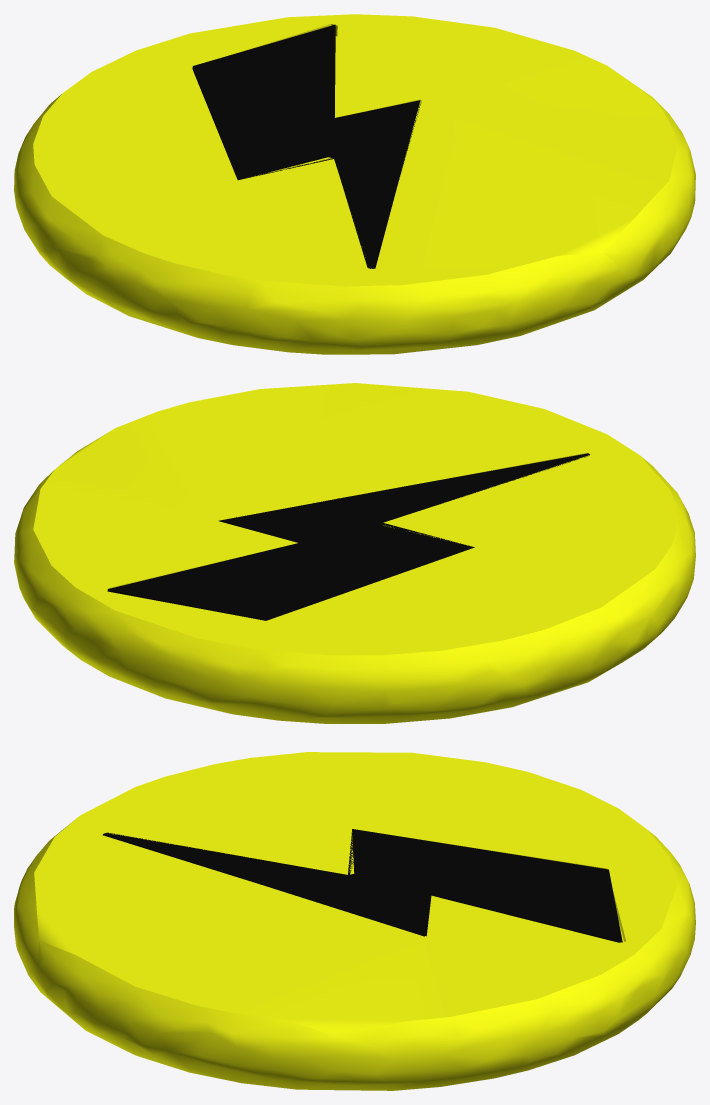
File: power-token.glb
The picture shows the model from 3 angles, top to bottom: view 1: azimuth 30°, elevation 25°; view 2: azimuth 150°, elevation 25°; view 3: azimuth 270°, elevation 25°; orthographic projection.
Visible parts, largest first — view 1: power-token; view 2: power-token; view 3: power-token.
Part boxes in pixels (bbox=[...]): power-token: bbox=[14, 14, 695, 354]; power-token: bbox=[14, 383, 695, 723]; power-token: bbox=[14, 752, 695, 1090].
Size of the model in its own units: 21.96 by 2.44 by 21.97.
